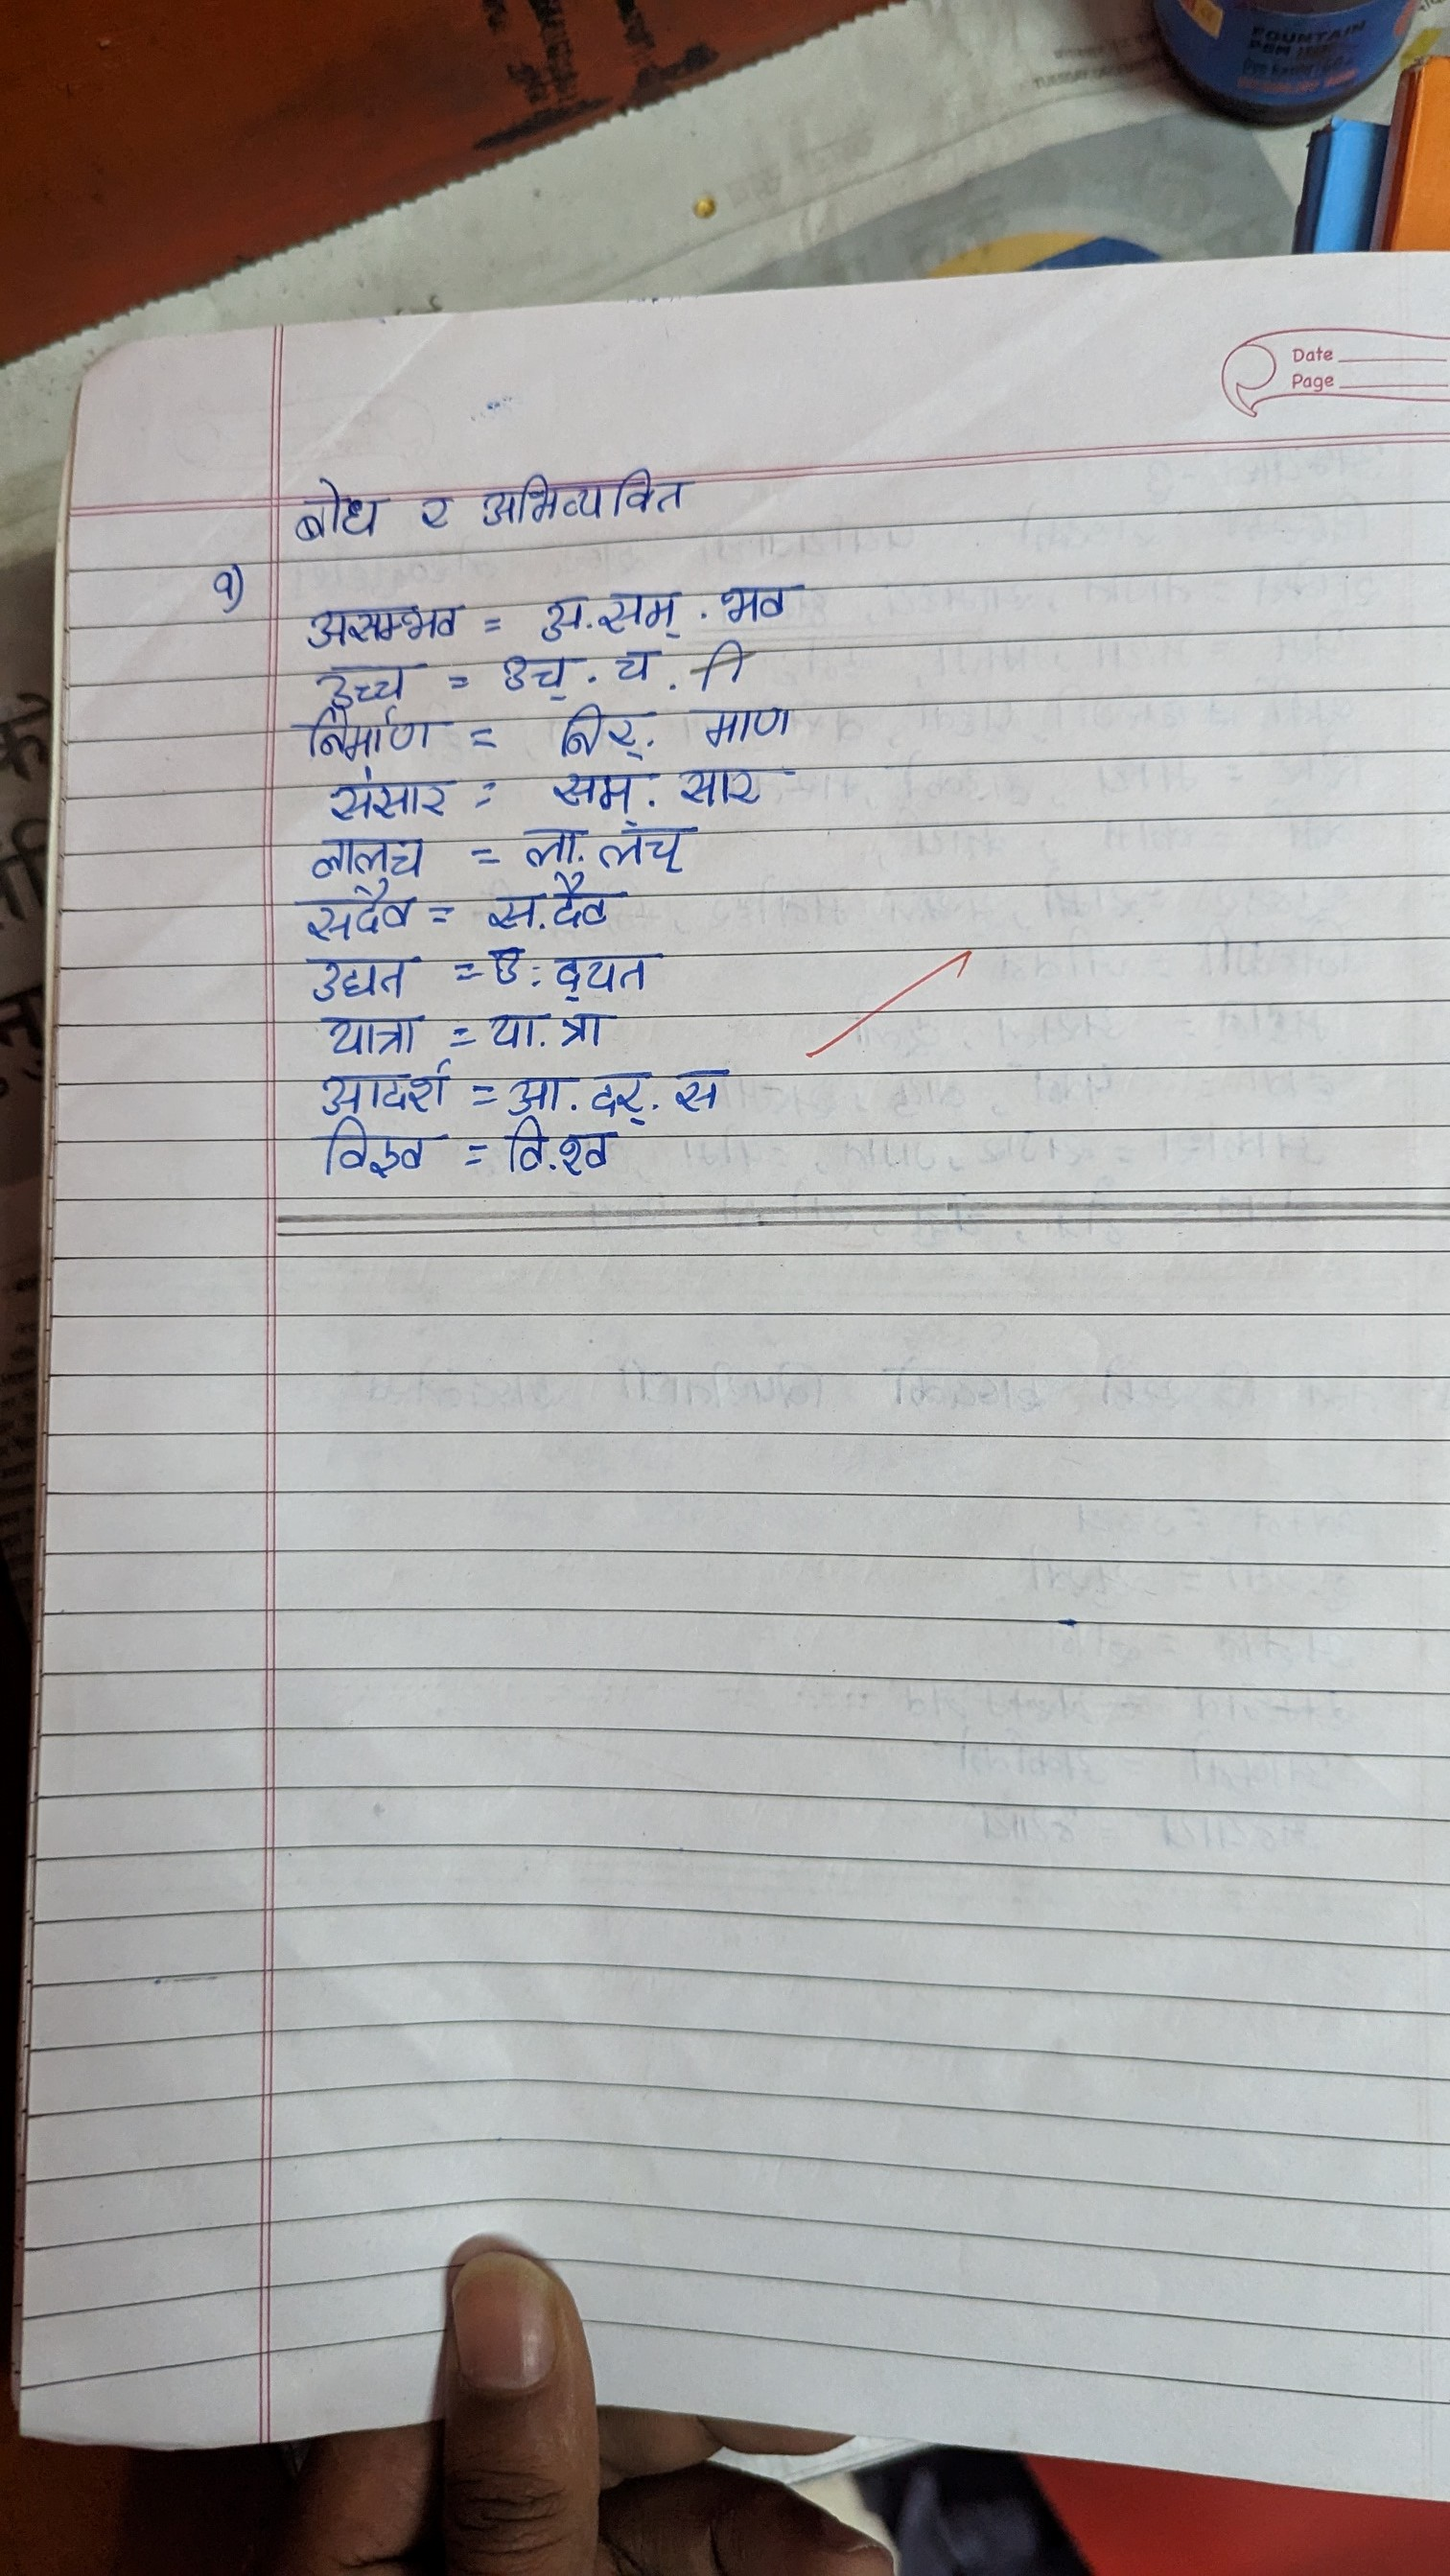text: (476, 467, 685, 518), (283, 472, 393, 548), (301, 596, 459, 644), (313, 766, 451, 819), (305, 1122, 428, 1178), (297, 708, 434, 757), (320, 1067, 448, 1118), (303, 832, 436, 879), (296, 885, 413, 938), (705, 568, 807, 625), (301, 952, 411, 1001), (549, 766, 643, 823), (554, 706, 652, 759), (551, 948, 659, 996), (699, 694, 795, 747), (673, 763, 775, 810), (317, 1012, 418, 1060), (591, 826, 696, 872), (602, 582, 680, 637), (313, 662, 413, 704), (496, 648, 572, 702), (591, 1063, 648, 1129), (664, 1054, 722, 1116), (547, 876, 613, 931), (536, 582, 591, 644), (411, 479, 466, 538), (513, 823, 582, 869), (197, 556, 250, 612), (499, 1123, 551, 1178), (556, 1007, 614, 1054), (559, 1131, 614, 1180), (487, 1005, 538, 1054), (510, 1070, 561, 1118), (485, 890, 540, 932), (485, 945, 529, 985), (609, 649, 659, 685)
